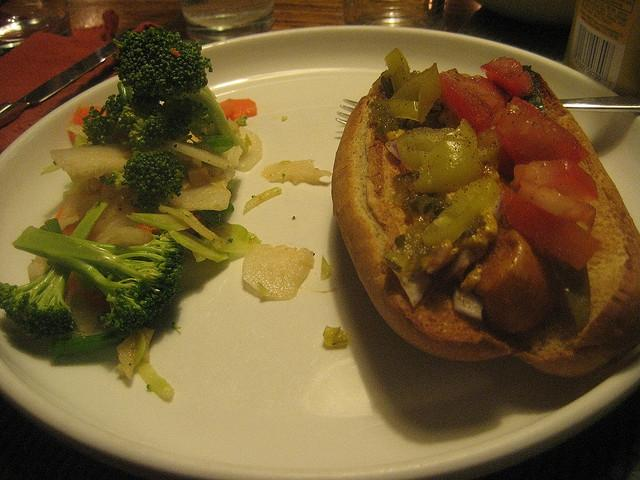broccoli: (12, 226, 188, 338), (112, 26, 214, 103), (0, 260, 76, 344), (82, 82, 168, 154), (111, 150, 186, 214)
carrot: (67, 106, 106, 146), (226, 98, 258, 121), (62, 221, 80, 236), (134, 223, 162, 232), (68, 276, 78, 297), (190, 210, 202, 222)
tomato: (497, 180, 601, 270), (496, 97, 591, 165), (439, 68, 509, 136), (518, 178, 596, 228), (508, 159, 598, 202), (479, 57, 534, 100)
